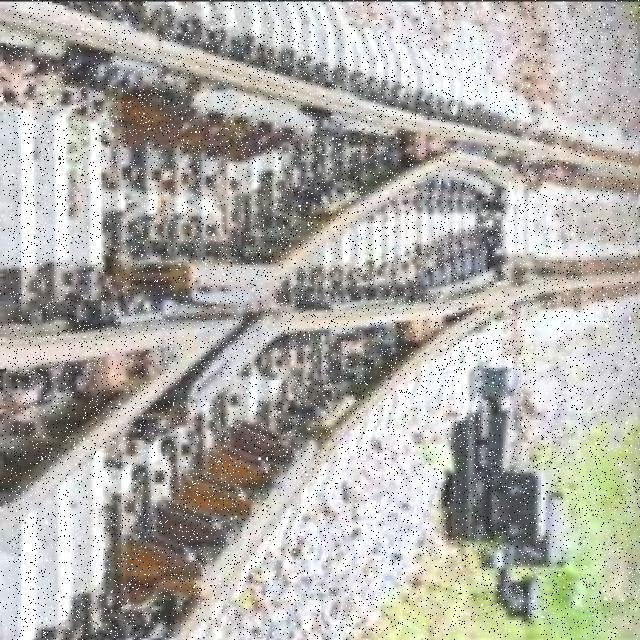rail: (8, 6, 637, 635)
